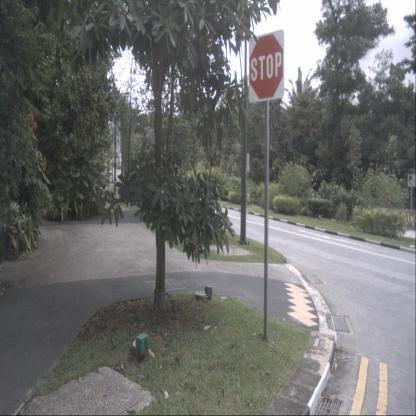vehicle-bicycle: (403, 212, 416, 231)
